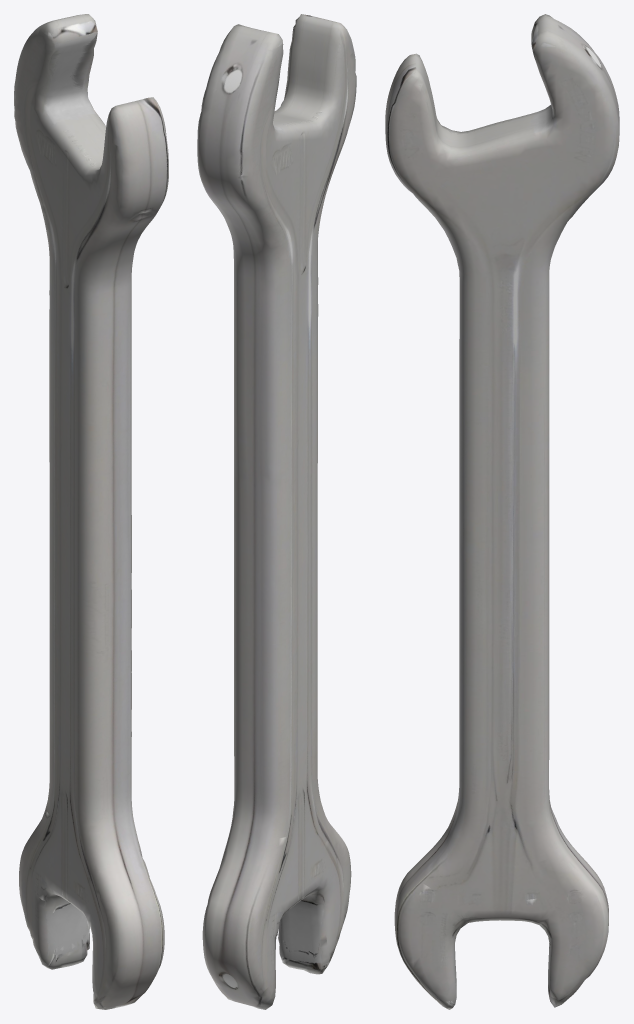
The model's file is Spanner.glb.
The picture shows the model from 3 angles, left to right: view 1: azimuth 30°, elevation 25°; view 2: azimuth 150°, elevation 25°; view 3: azimuth 270°, elevation 25°; orthographic projection. The views are drawn at different scales.
Visible parts, largest first — view 1: Mesh_0; view 2: Mesh_0; view 3: Mesh_0.
Boxes of the visible parts, x1,y1,x2,y2 form: Mesh_0: [14, 14, 168, 1009]; Mesh_0: [197, 14, 356, 1009]; Mesh_0: [385, 14, 619, 1009].
Size of the model in its own units: 0.1116 by 1.99 by 0.4312.
1 material, 1 textured.
